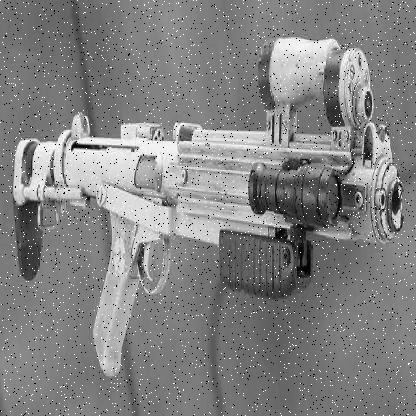rifle: (11, 30, 410, 369)
